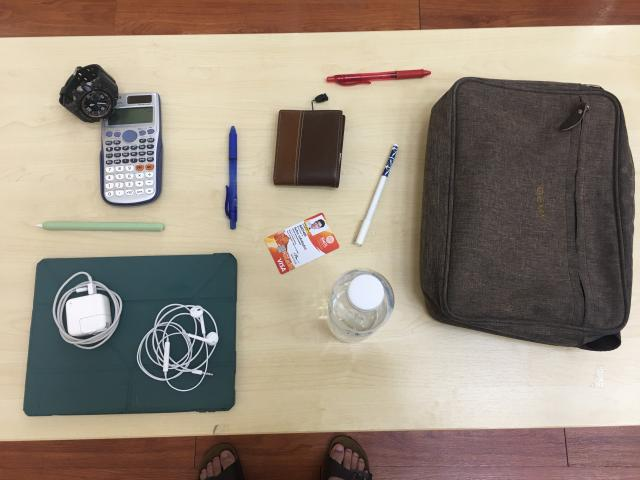Pen: (352, 143, 400, 248), (326, 70, 432, 86), (225, 127, 241, 232)
Wallet: (273, 110, 347, 189)
Watch: (58, 64, 119, 124)
bottle: (327, 270, 396, 343)
wire: (136, 304, 219, 391), (49, 272, 125, 352)
